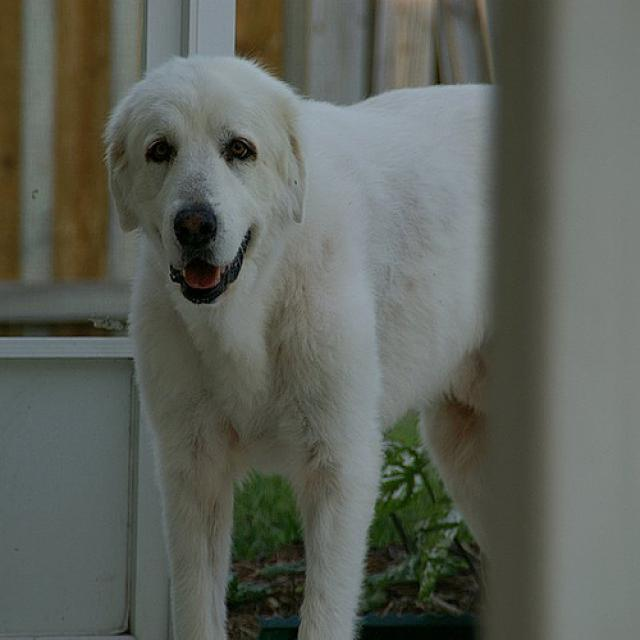dog: (105, 56, 303, 301)
